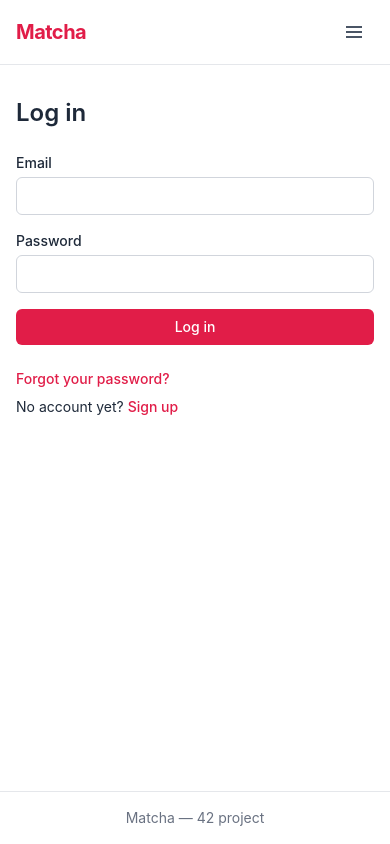
Test: mobile menu › toggles open and closes after picking a link
Click the button named "Toggle menu": (354, 32) [334,12,374,52]
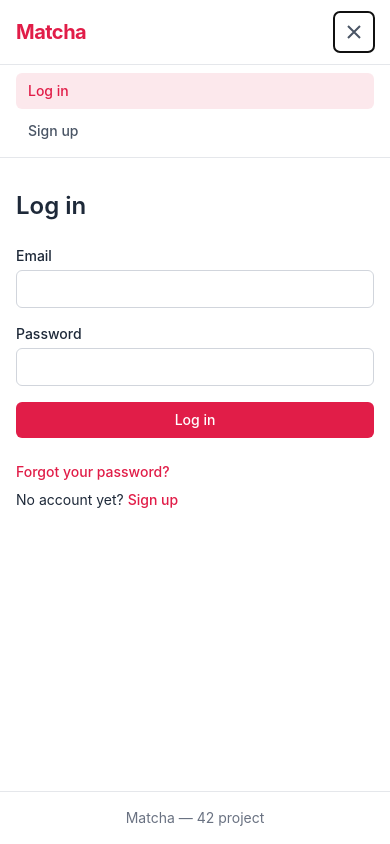
Result: the button named "Toggle menu" is expanded at [334,12,374,52]
Click the 1st link "Sign up": (53, 130) [28,122,78,139]
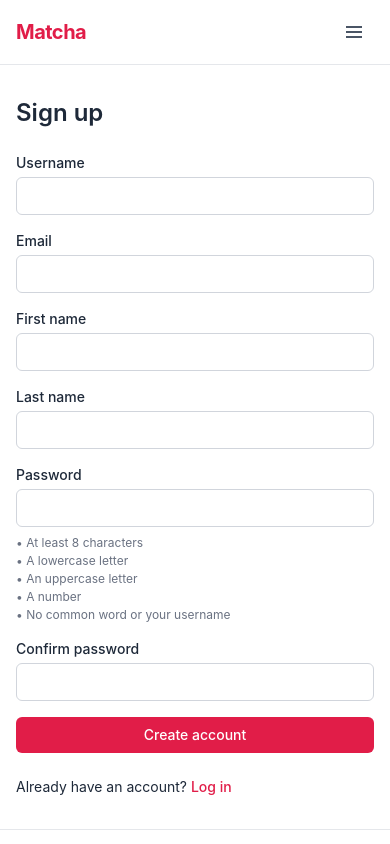
Result: the heading "Sign up" is shown at [16,98,103,127]
Result: the navigation bar with id "mobile-nav" is gone
